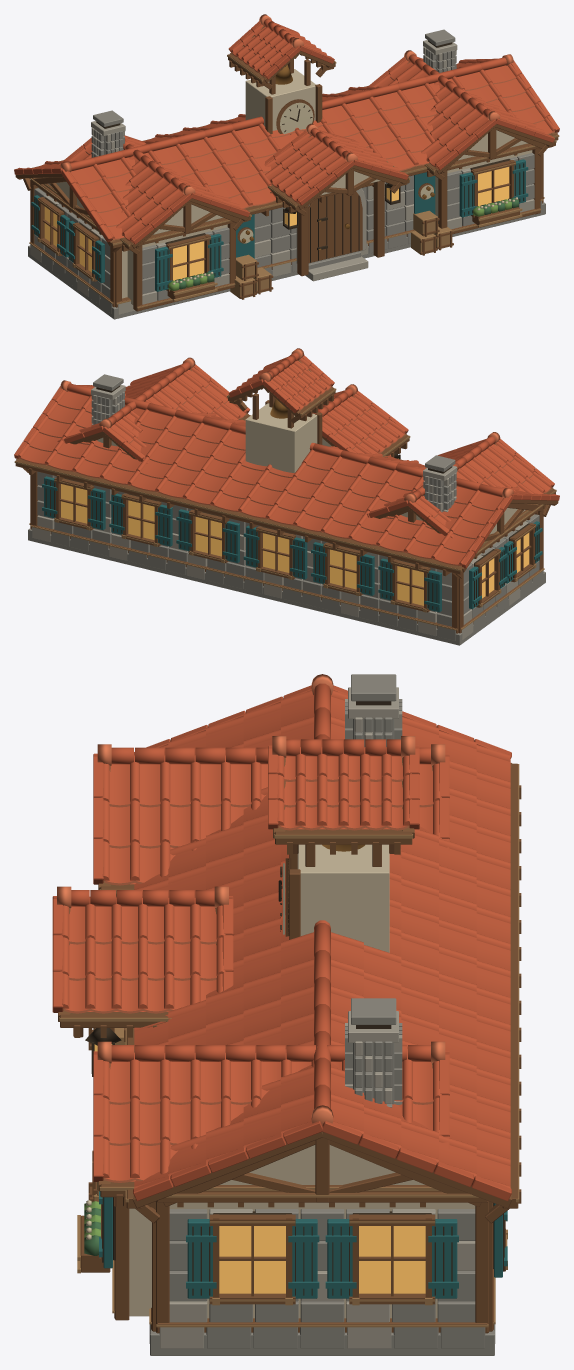
The picture shows the model from 3 angles, top to bottom: view 1: azimuth 30°, elevation 25°; view 2: azimuth 150°, elevation 25°; view 3: azimuth 270°, elevation 25°; orthographic projection. The views are drawn at different scales.
Visible parts, largest first — view 1: alpine_finance_1_geometry, alpine_finance_1_geometry ceramic; view 2: alpine_finance_1_geometry, alpine_finance_1_geometry ceramic; view 3: alpine_finance_1_geometry ceramic, alpine_finance_1_geometry.
Boxes of the visible parts, x1,y1,x2,y2 form: alpine_finance_1_geometry: [15, 26, 559, 319]; alpine_finance_1_geometry ceramic: [14, 14, 559, 244]; alpine_finance_1_geometry: [14, 360, 558, 645]; alpine_finance_1_geometry ceramic: [14, 348, 559, 568]; alpine_finance_1_geometry ceramic: [52, 674, 511, 1201]; alpine_finance_1_geometry: [58, 674, 521, 1355].
Bounding box in the file's own units: 2.27 × 0.9815 × 1.02.
